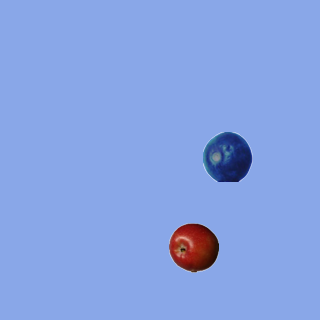Apple Braeburn: (168, 222, 218, 272)
Huckleberry: (202, 131, 252, 181)
